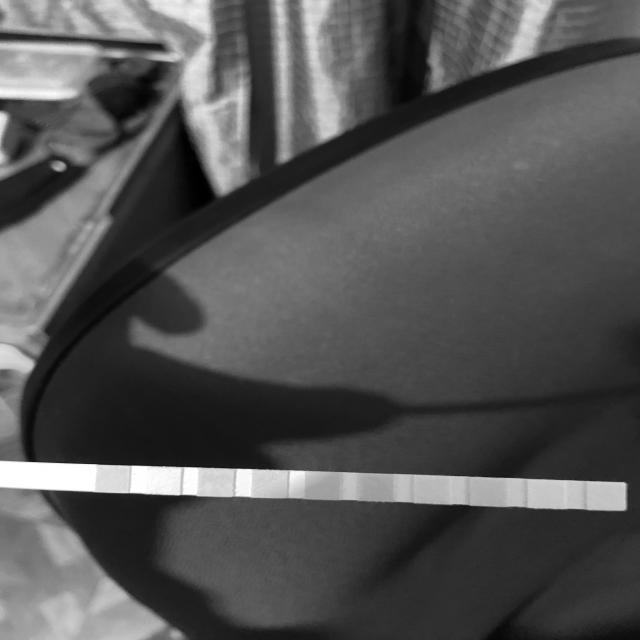Bilirubin: (148, 468, 180, 494)
Blood: (306, 472, 340, 500)
Glucose: (97, 466, 128, 493)
Ketone: (200, 468, 233, 496)
Leukocytes: (588, 482, 624, 510)
Nitrite: (529, 480, 566, 508)
Protein: (414, 476, 450, 502)
SpGravity: (253, 470, 288, 498)
Urobilinogen: (471, 478, 507, 506)
background: (0, 0, 640, 640)
pH: (358, 474, 394, 500)
strip: (0, 462, 628, 510)
